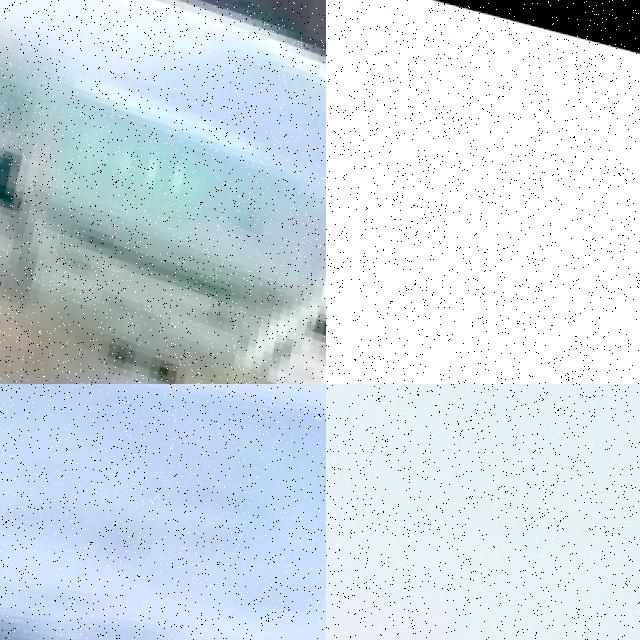drone: (0, 0, 326, 384), (326, 0, 640, 384)
